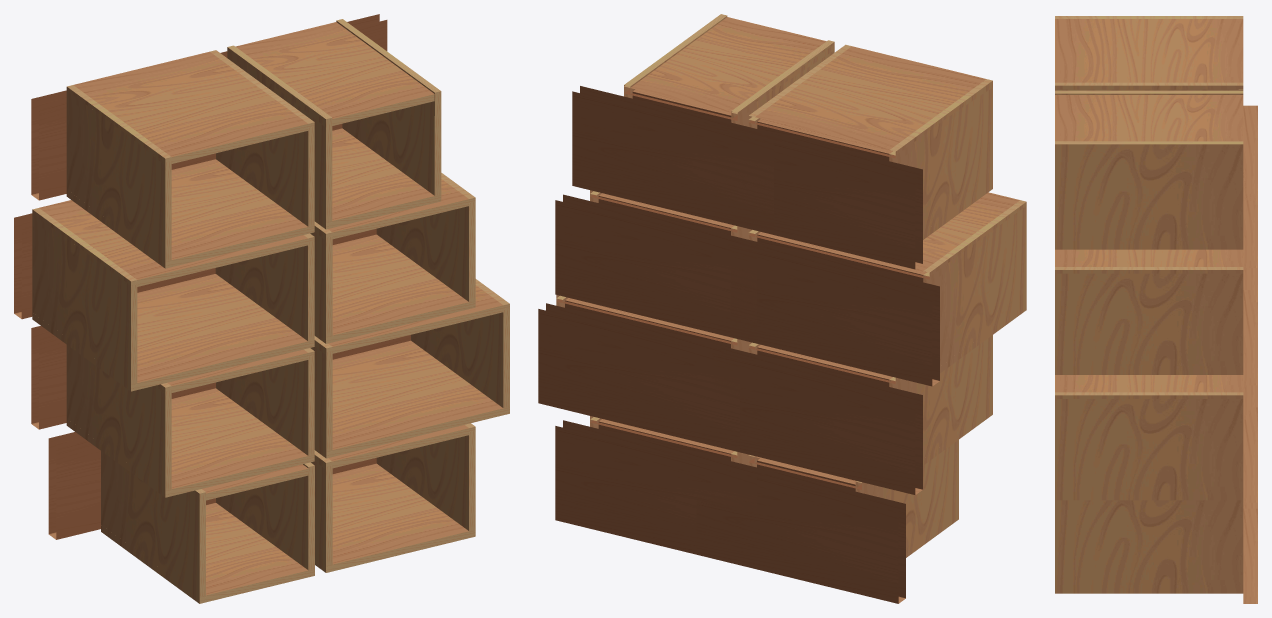
Rendered from layout_2x4_small.fbx.
The picture shows the model from 3 angles, left to right: view 1: azimuth 30°, elevation 25°; view 2: azimuth 150°, elevation 25°; view 3: azimuth 270°, elevation 25°; orthographic projection. The views are drawn at different scales.
Parts seen in each view (by area): view 1: Shelf-TM-00 7, Shelf-BM-00 1, Shelf-BM-00 6, Shelf-CL-01 6, Shelf-TM-00 3, Shelf-CL-01 7, Shelf-BM-00 7, Shelf-BM-00 5, Shelf-BM-00 2, Shelf-BM-00, Shelf-CL-01 5, Shelf-CL-01 4 (+32 smaller); view 2: Shelf-Back-00 (1) 6, Shelf-Back-00 (1) 3, Shelf-Back-00 (1) 2, Shelf-Back-00 (1) 1, Shelf-Back-00 (1) 5, Shelf-Back-00 (1) 4, Shelf-Back-00 (1) 7, Shelf-Back-00 (1), Shelf-TM-00 7, Shelf-TM-00 3, Shelf-CL-01 6, Shelf-CL-01 7 (+17 smaller); view 3: Shelf-CR-01 3, Shelf-CR-01 2, Shelf-CR-01 1, Shelf-CR-01, Shelf-TM-00 7, Shelf-TM-00 3, Shelf-TM-00 1, Shelf-TM-00 2, Shelf-CR-00 1, Shelf-CR-00 (1) 7, Shelf-Back-00 (1), Shelf-Back-00 (1) 7 (+13 smaller).
Boxes of the visible parts, <box> form: Shelf-TM-00 7: <box>73,51,308,163</box>; Shelf-BM-00 1: <box>332,340,503,456</box>; Shelf-BM-00 6: <box>137,274,307,389</box>; Shelf-CL-01 6: <box>32,213,137,384</box>; Shelf-TM-00 3: <box>235,22,434,125</box>; Shelf-CL-01 7: <box>66,91,171,261</box>; Shelf-BM-00 7: <box>171,159,308,266</box>; Shelf-BM-00 5: <box>171,388,308,495</box>; Shelf-BM-00 2: <box>332,234,468,342</box>; Shelf-BM-00: <box>332,463,468,571</box>; Shelf-CL-01 5: <box>66,345,171,490</box>; Shelf-CL-01 4: <box>101,451,205,596</box>; Shelf-Back-00 (1) 6: <box>730,237,939,386</box>; Shelf-Back-00 (1) 3: <box>572,86,781,234</box>; Shelf-Back-00 (1) 2: <box>555,194,764,343</box>; Shelf-Back-00 (1) 1: <box>538,303,747,452</box>; Shelf-Back-00 (1) 5: <box>713,346,922,495</box>; Shelf-Back-00 (1) 4: <box>696,469,905,603</box>; Shelf-Back-00 (1) 7: <box>713,120,922,269</box>; Shelf-Back-00 (1): <box>555,420,764,554</box>; Shelf-TM-00 7: <box>755,46,985,156</box>; Shelf-TM-00 3: <box>630,17,826,119</box>; Shelf-CL-01 6: <box>923,206,1026,366</box>; Shelf-CL-01 7: <box>889,87,992,232</box>; Shelf-CR-01 3: <box>1055,141,1243,242</box>; Shelf-CR-01 2: <box>1055,273,1243,368</box>; Shelf-CR-01 1: <box>1055,399,1243,493</box>; Shelf-CR-01: <box>1055,500,1243,586</box>; Shelf-TM-00 7: <box>1055,19,1243,82</box>; Shelf-TM-00 3: <box>1055,95,1243,141</box>; Shelf-TM-00 1: <box>1055,375,1243,392</box>; Shelf-TM-00 2: <box>1055,249,1243,266</box>; Shelf-CR-00 1: <box>1055,493,1243,500</box>; Shelf-CR-00 (1) 7: <box>1055,82,1243,89</box>; Shelf-Back-00 (1): <box>1243,508,1257,603</box>; Shelf-Back-00 (1) 7: <box>1243,105,1257,200</box>.
Bounding box in the file's own units: 188 × 203 × 86.3.
